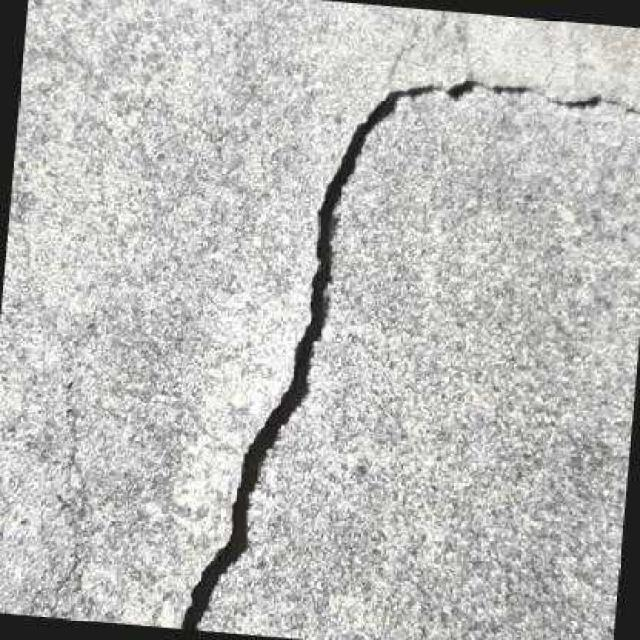D00: (174, 77, 601, 631)
